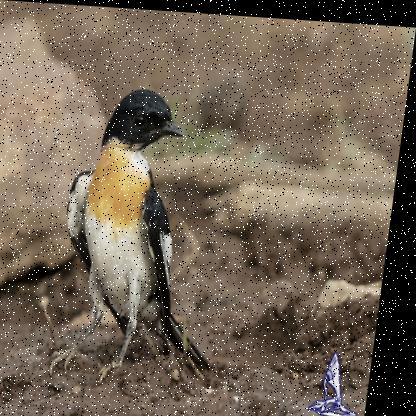Burung: (54, 83, 247, 385)
